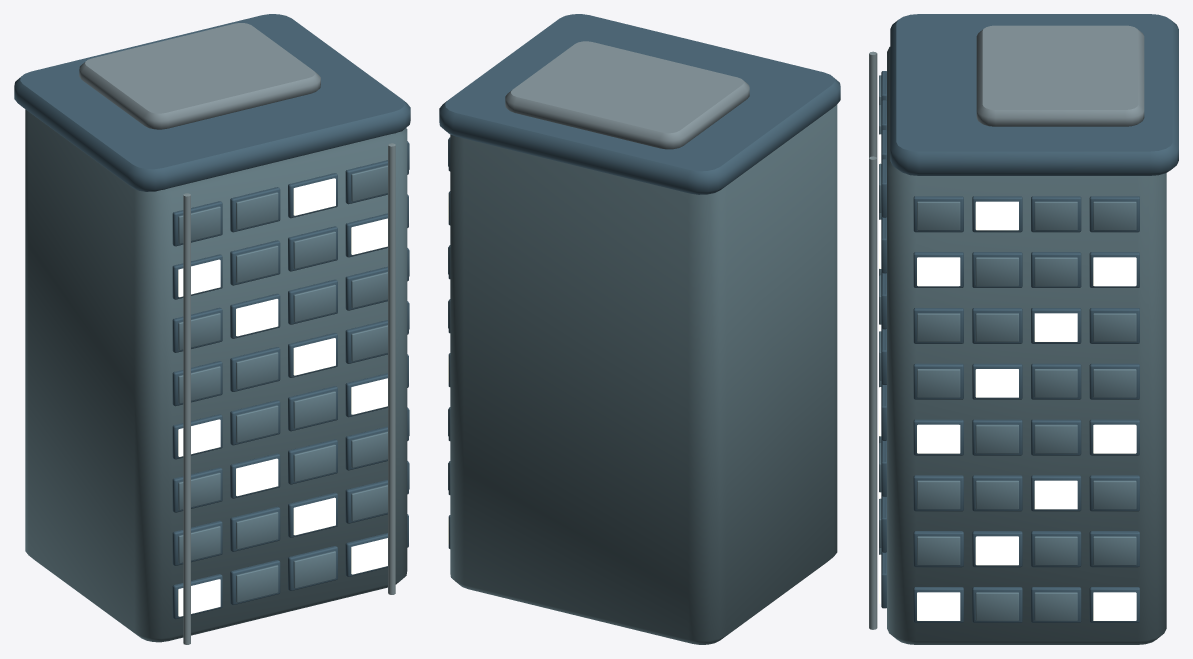
Rendered from metro_tower_0.glb.
3 views of the same model, side by side, from view 1: azimuth 30°, elevation 25°; view 2: azimuth 150°, elevation 25°; view 3: azimuth 270°, elevation 25° (orthographic). The views are drawn at different scales.
Parts seen in each view (by area): view 1: Metro_Tower_0; view 2: Metro_Tower_0; view 3: Metro_Tower_0.
Boxes of the visible parts, x1,y1,x2,y2 form: Metro_Tower_0: (14, 14, 410, 644); Metro_Tower_0: (439, 14, 840, 644); Metro_Tower_0: (869, 14, 1178, 644).
Size of the model in its own units: 6.57 by 10.91 by 5.99.
